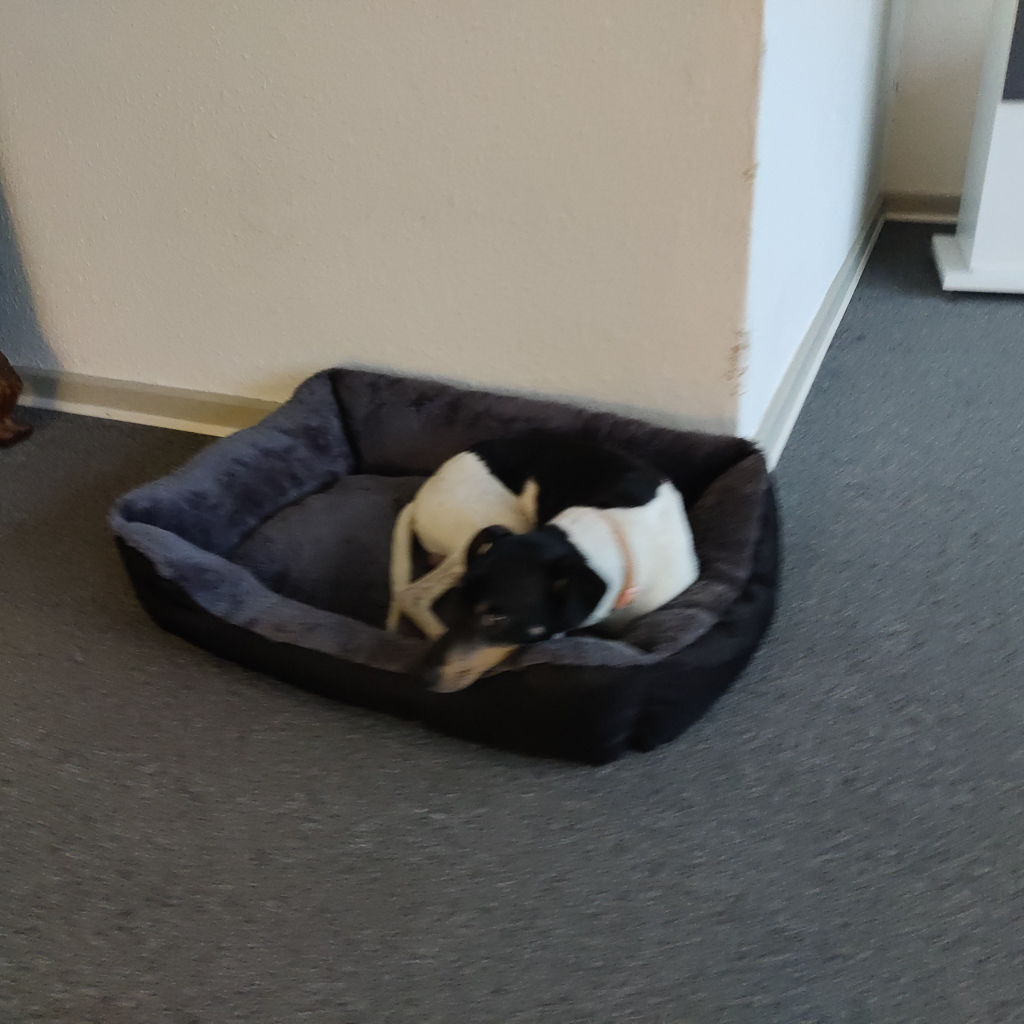Dog: (371, 416, 727, 709)
